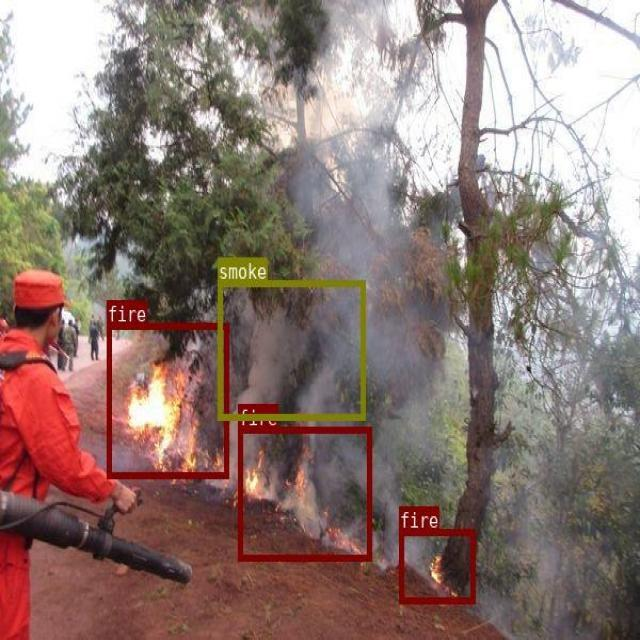fire: (106, 322, 228, 477), (237, 425, 370, 559), (398, 529, 474, 603)
smoke: (217, 280, 365, 419)
